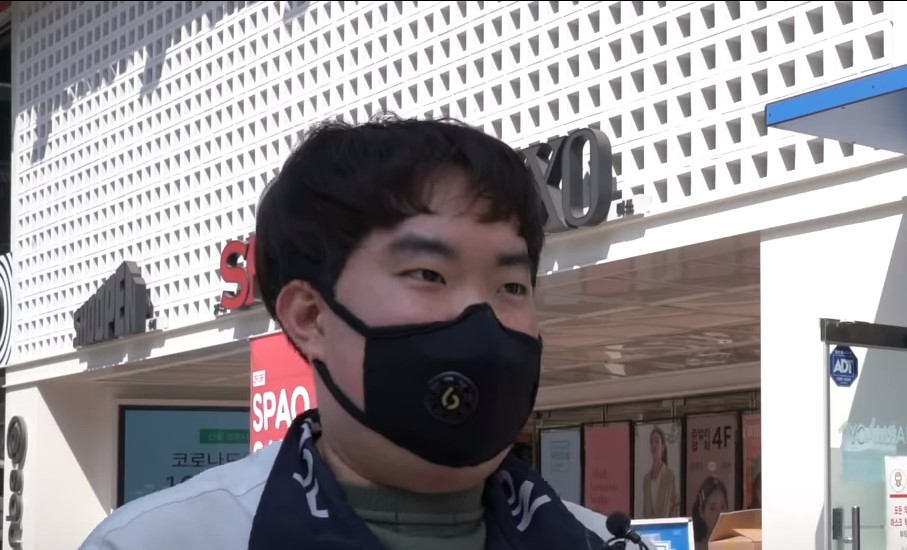face_with_mask: (252, 122, 544, 474)
